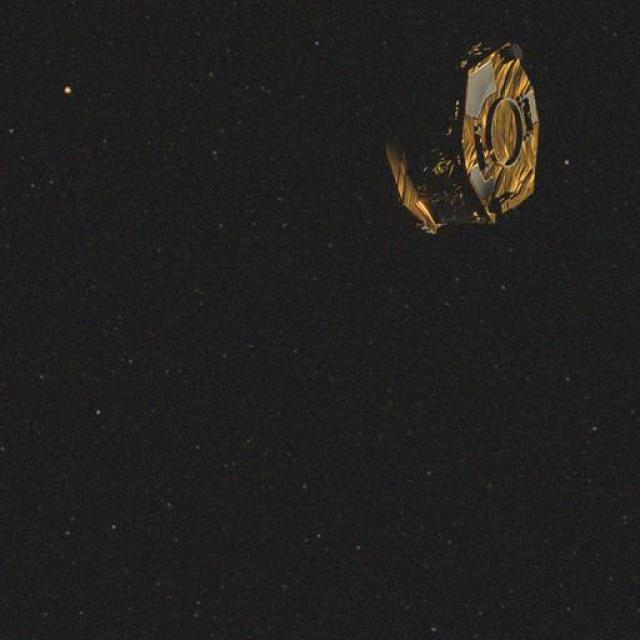lisa_pathfinder: (334, 32, 565, 288)
